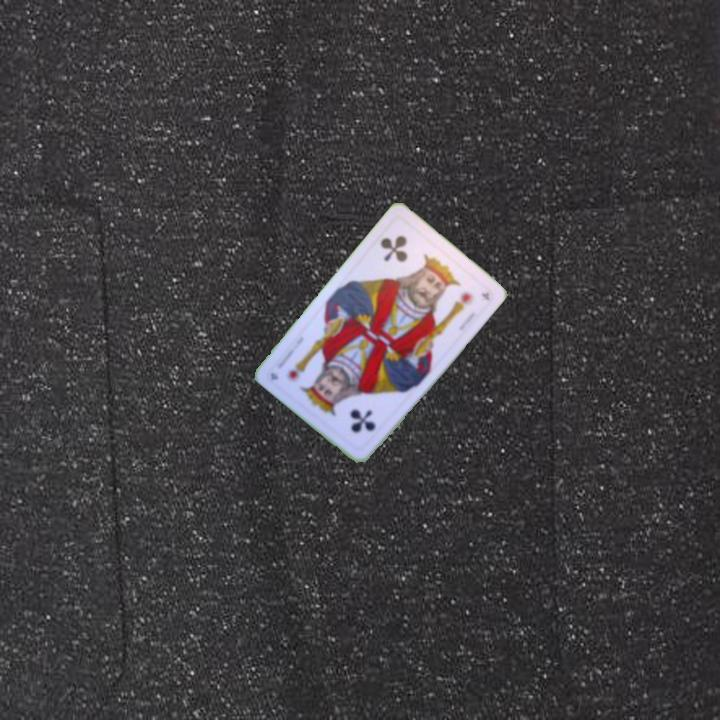c_k.png: (311, 370, 398, 455), (362, 213, 449, 298)
